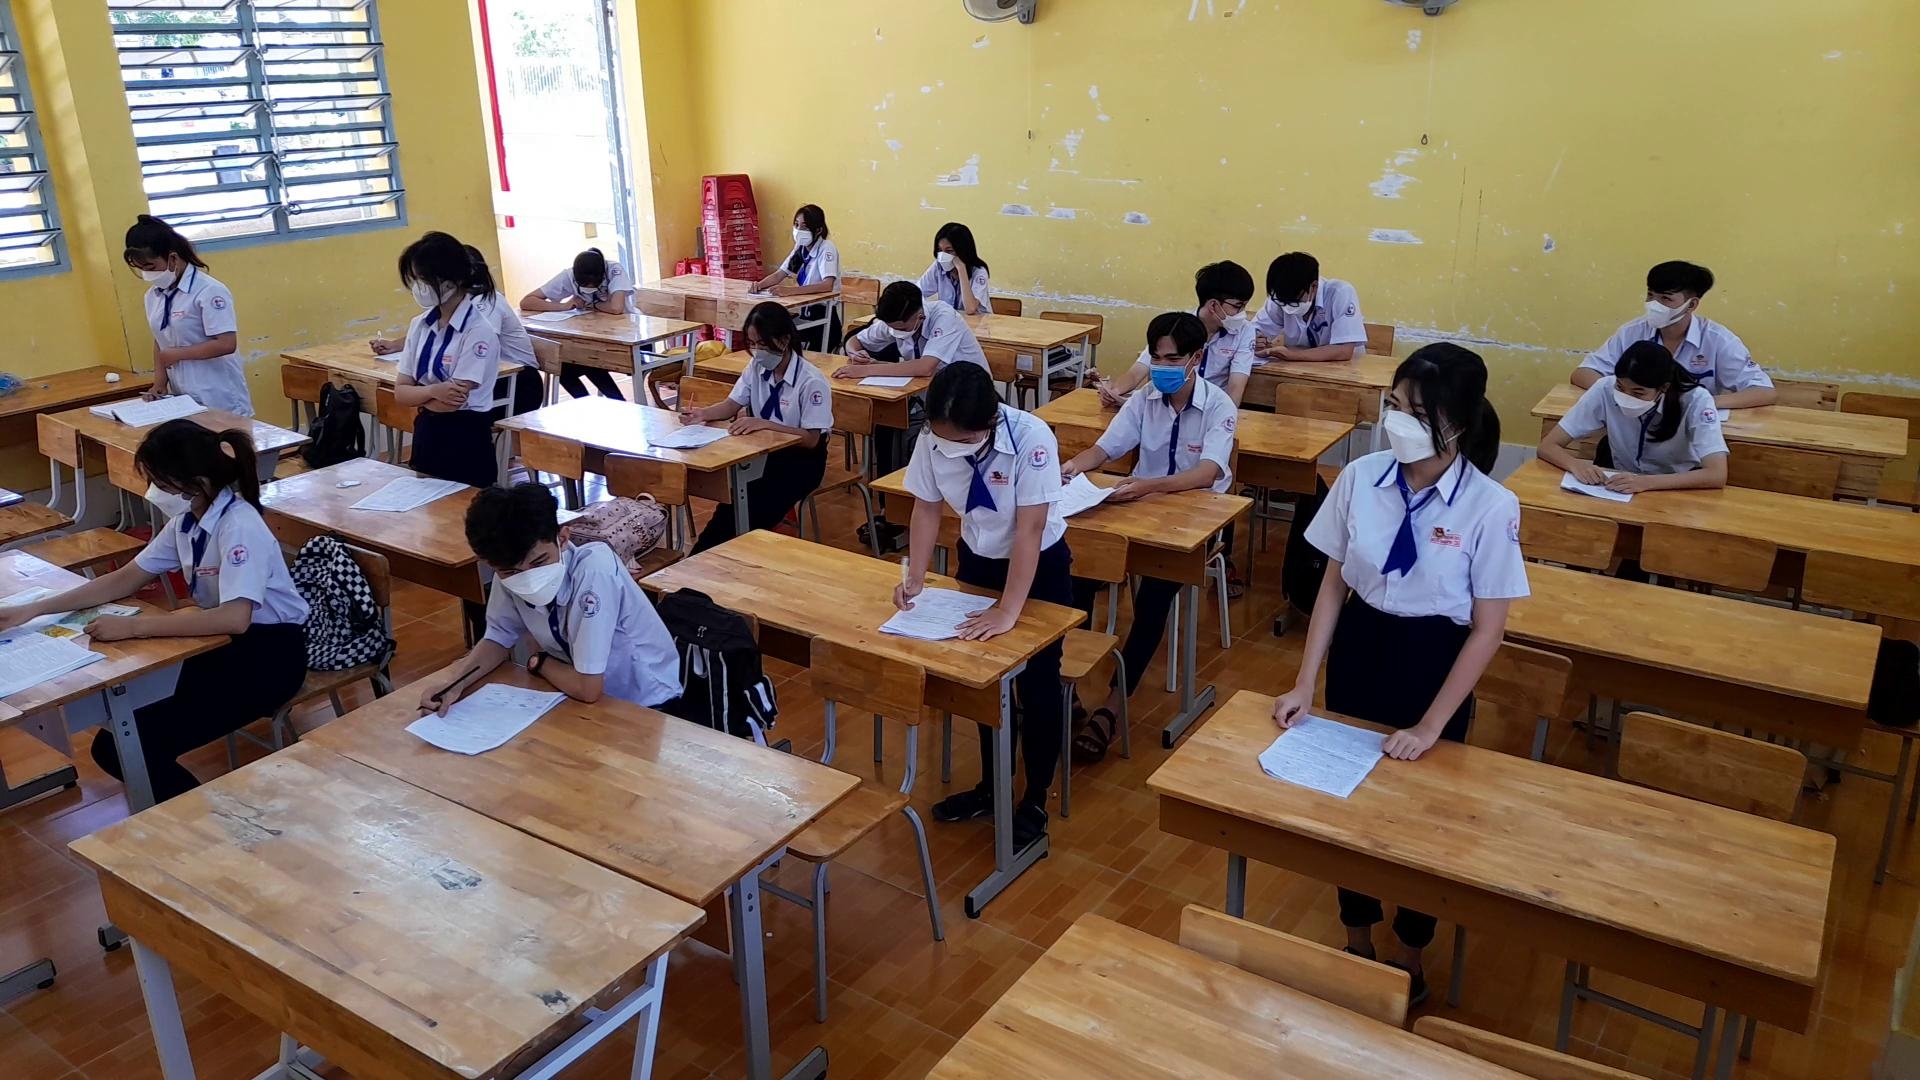Look Around: (1185, 252, 1255, 340)
Normal: (407, 467, 676, 732), (8, 419, 314, 642), (1065, 299, 1240, 509), (1538, 324, 1726, 502), (665, 294, 845, 448), (1253, 237, 1375, 367), (735, 186, 851, 301)
Stand Up: (1255, 331, 1531, 760), (887, 349, 1067, 644), (377, 220, 505, 495), (116, 195, 237, 422)
Wave: (948, 255, 986, 322)
